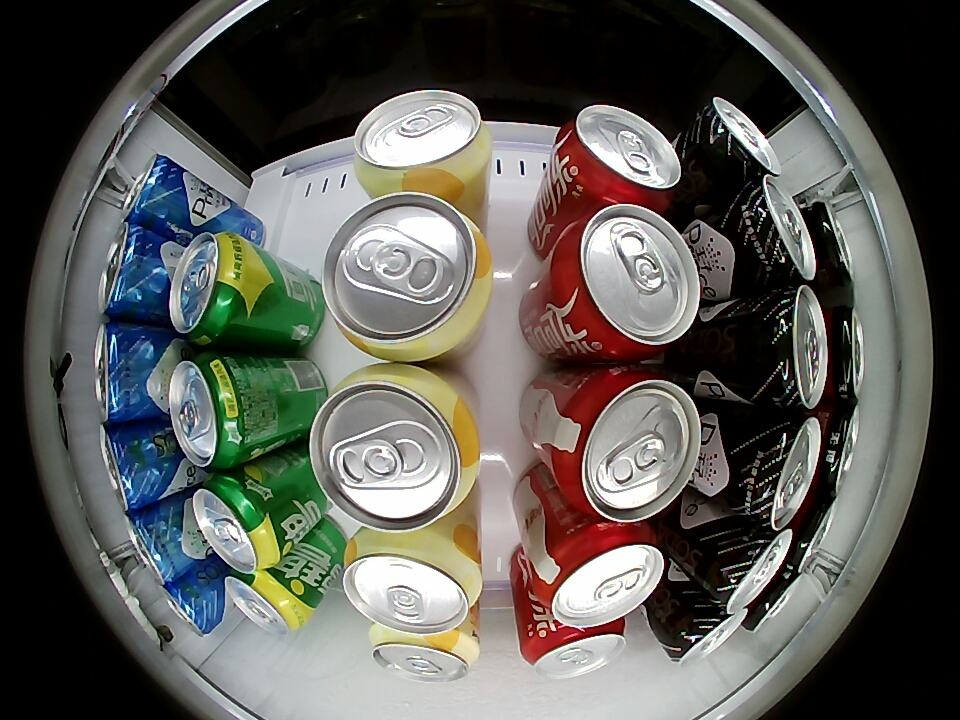kele: (552, 204, 701, 361), (554, 366, 703, 522), (536, 522, 665, 628), (558, 105, 682, 207), (521, 620, 628, 680)
lingdukele: (805, 200, 855, 292), (812, 401, 861, 493), (784, 491, 838, 572), (822, 306, 865, 400), (745, 569, 804, 633)
mangguoxiaolao: (321, 191, 493, 361), (308, 364, 480, 530), (352, 89, 491, 195), (341, 530, 481, 635), (370, 627, 480, 684)
qingdaowangzi-1: (743, 287, 829, 410), (731, 414, 821, 528), (729, 176, 817, 287), (703, 519, 793, 612), (695, 97, 781, 184), (665, 598, 748, 665)
qingdaowangzi-2: (93, 321, 162, 424), (98, 222, 167, 321), (98, 422, 168, 511), (118, 154, 187, 231), (123, 506, 190, 585), (158, 572, 227, 636)
xuebi2: (168, 352, 256, 468), (170, 232, 256, 345), (191, 471, 285, 573), (226, 569, 309, 635)
